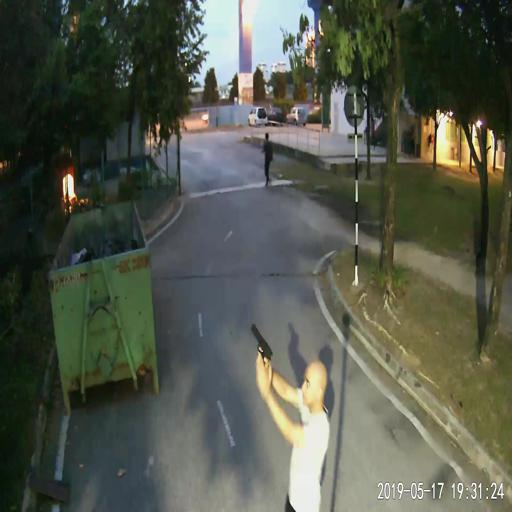pistol: (250, 322, 273, 378)
